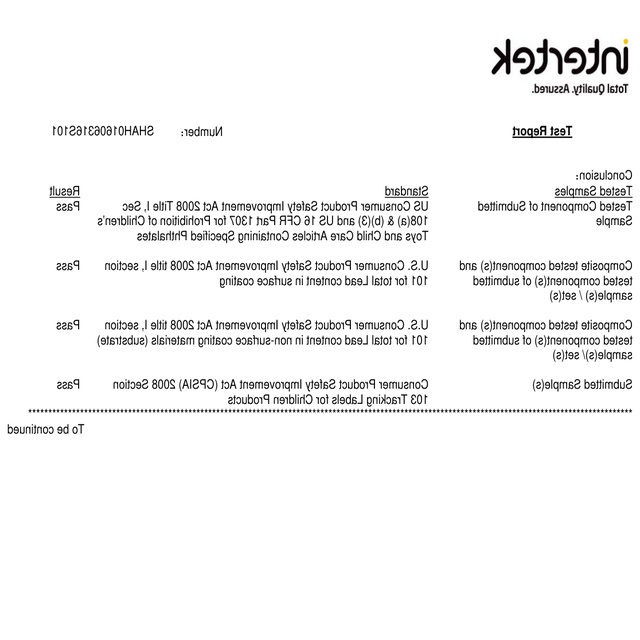intertek: (491, 34, 638, 78)
